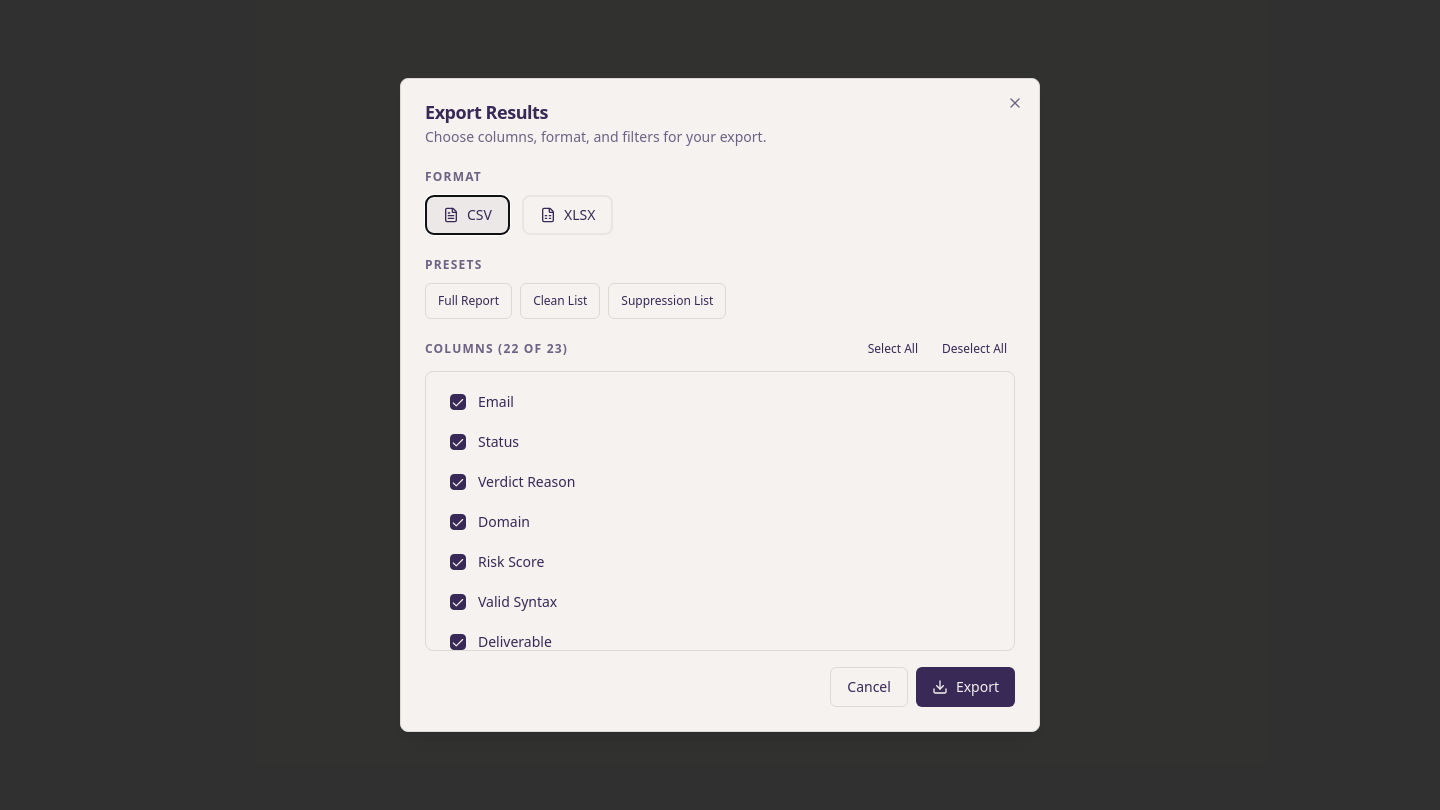
Test case: ExportDialog › Full Report preset enables all columns with no filter
First deselect some columns
Click the checkbox next to "Email" at (458, 402), box [450,394,466,410]
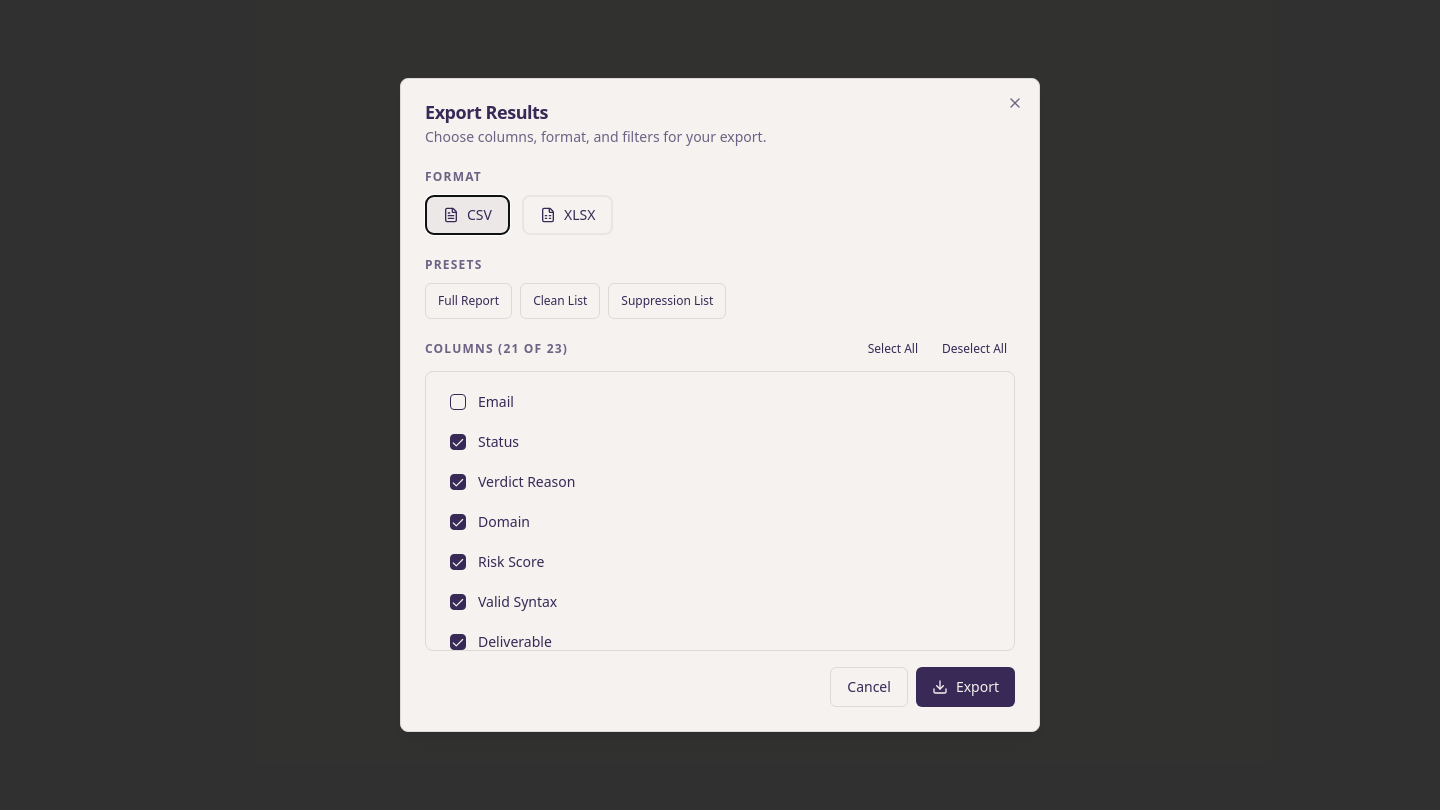
Click the checkbox next to "Status" at (458, 442), box [450,434,466,450]
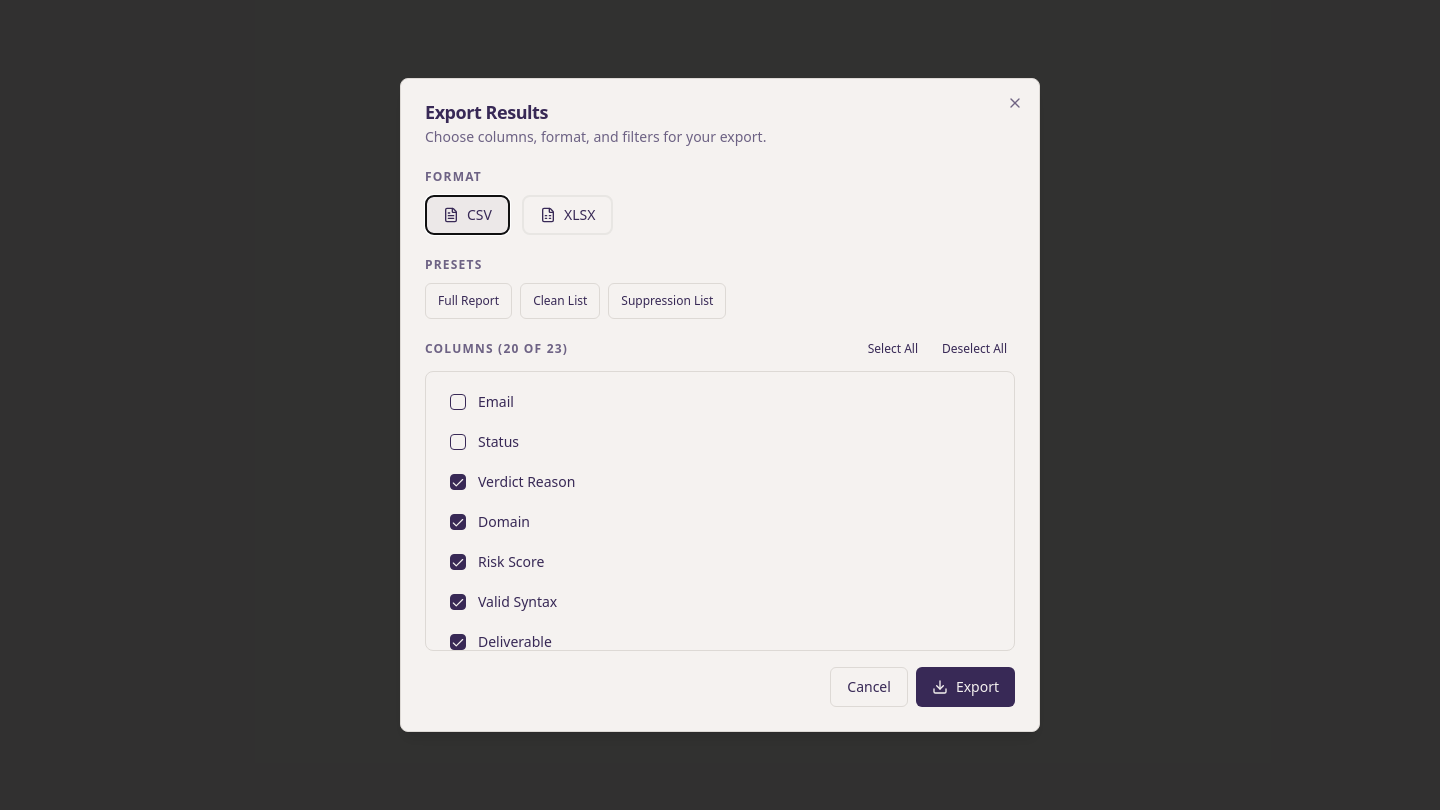
Click Full Report
Click the button "Full Report" at (469, 301), box [425,283,512,319]
(page scrolled)
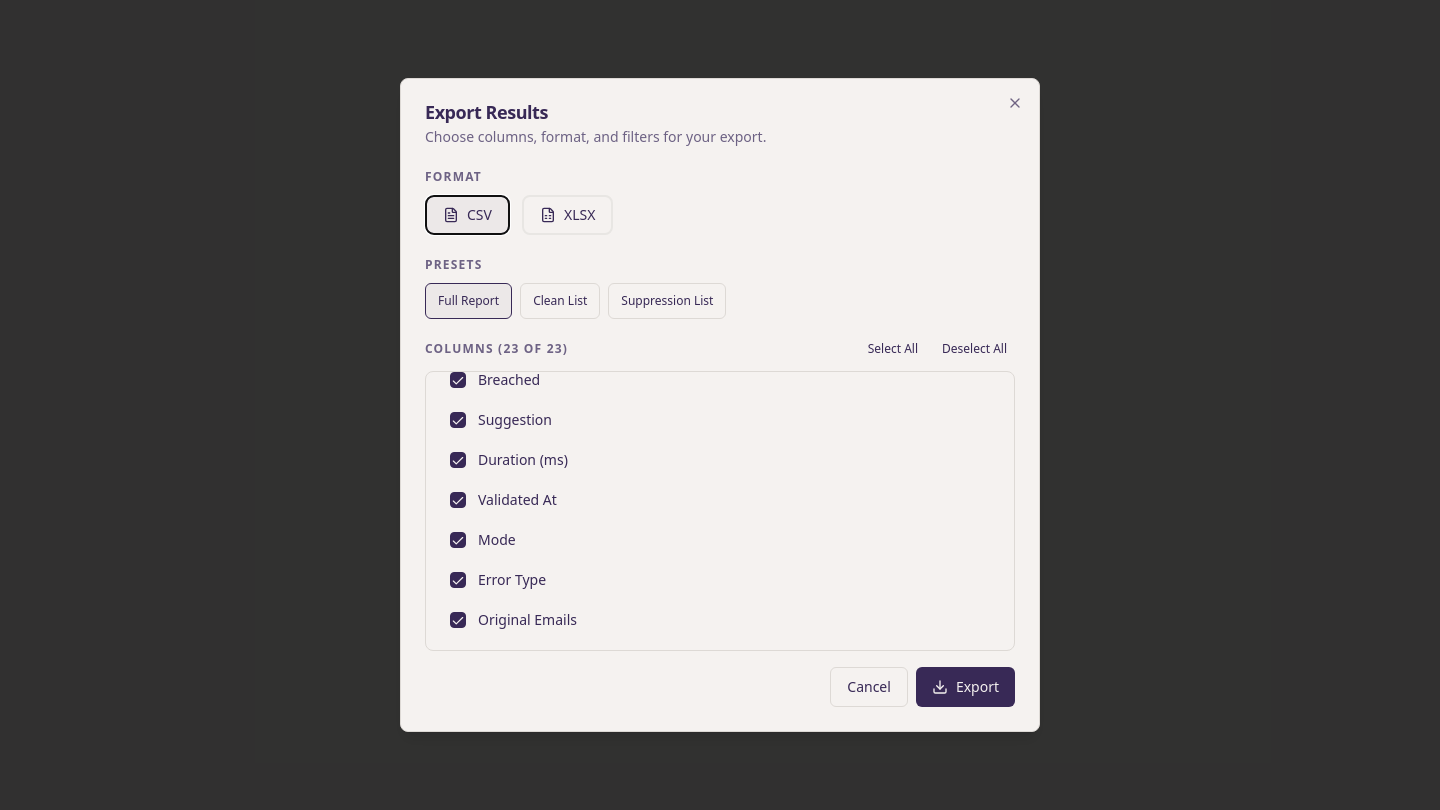
Expected: the checkbox next to "Duration (ms)" is checked, [450,452,466,468]
Now the checkbox next to "Breached" is checked, box [450,372,466,388]
Now the checkbox next to "Suggestion" is checked, box [450,412,466,428]
